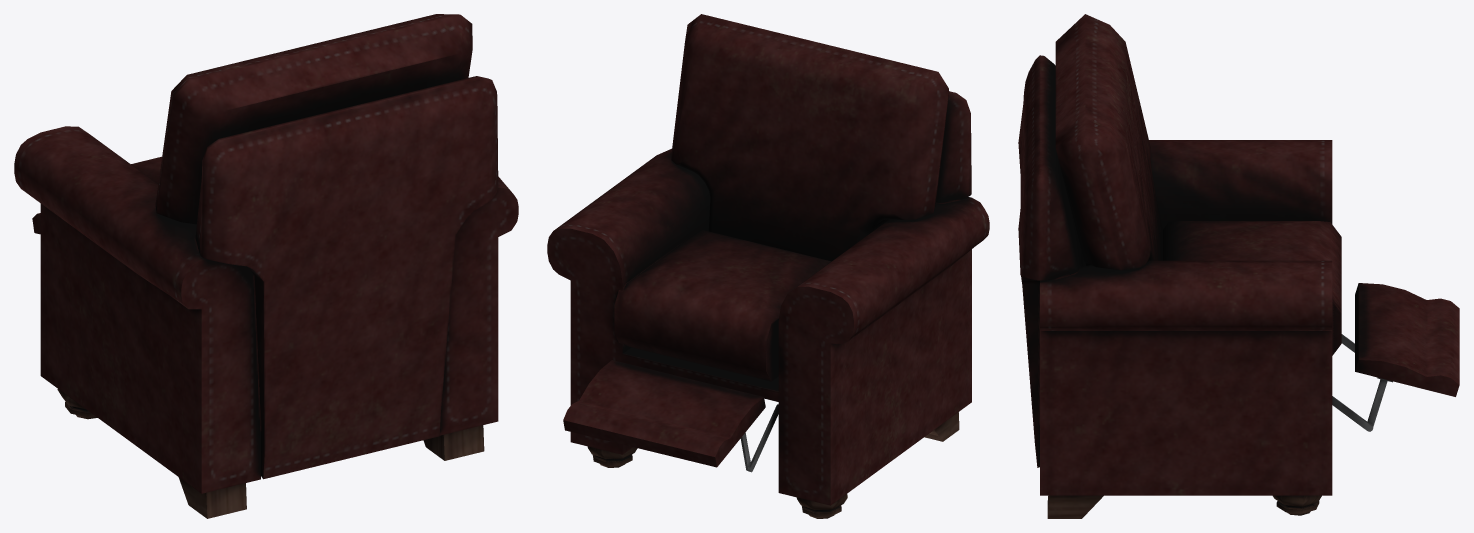
File: Armchair_14.fbx
The picture shows the model from 3 angles, left to right: view 1: azimuth 30°, elevation 25°; view 2: azimuth 150°, elevation 25°; view 3: azimuth 270°, elevation 25°; orthographic projection. The views are drawn at different scales.
Visible parts, largest first — view 1: Armchair_2; view 2: Armchair_2; view 3: Armchair_2.
Part boxes in pixels (x1,y1,x2,y2): Armchair_2: (14,14,518,518); Armchair_2: (547,14,989,518); Armchair_2: (1018,14,1459,518).
Bounding box in the file's own units: 70 × 80.8 × 84.2.
